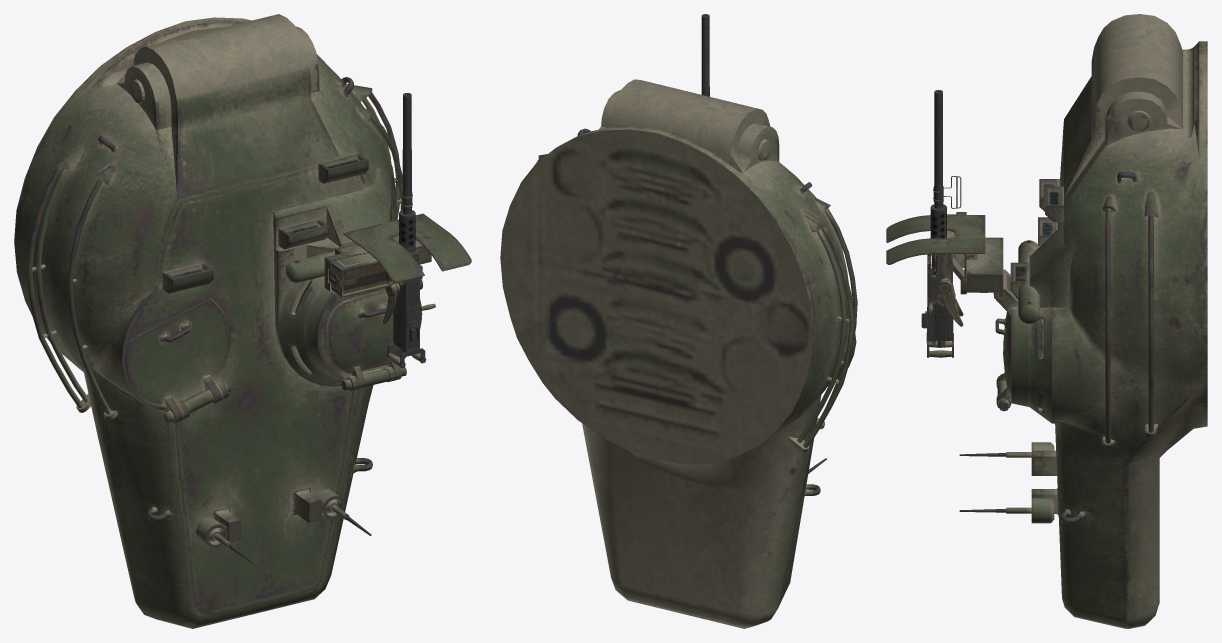
File: Turret_02.glb
The picture shows the model from 3 angles, left to right: view 1: azimuth 30°, elevation 25°; view 2: azimuth 150°, elevation 25°; view 3: azimuth 270°, elevation 25°; orthographic projection. The views are drawn at different scales.
Parts seen in each view (by area): view 1: set_0_group_0; view 2: set_0_group_0; view 3: set_0_group_0.
Part boxes in pixels (x1=…): set_0_group_0: x1=14, y1=14, x2=471, y2=628; set_0_group_0: x1=500, y1=14, x2=857, y2=628; set_0_group_0: x1=886, y1=14, x2=1207, y2=628.
Bounding box in the file's own units: 2.41 × 3.46 × 1.83.
1 material, 1 textured.
